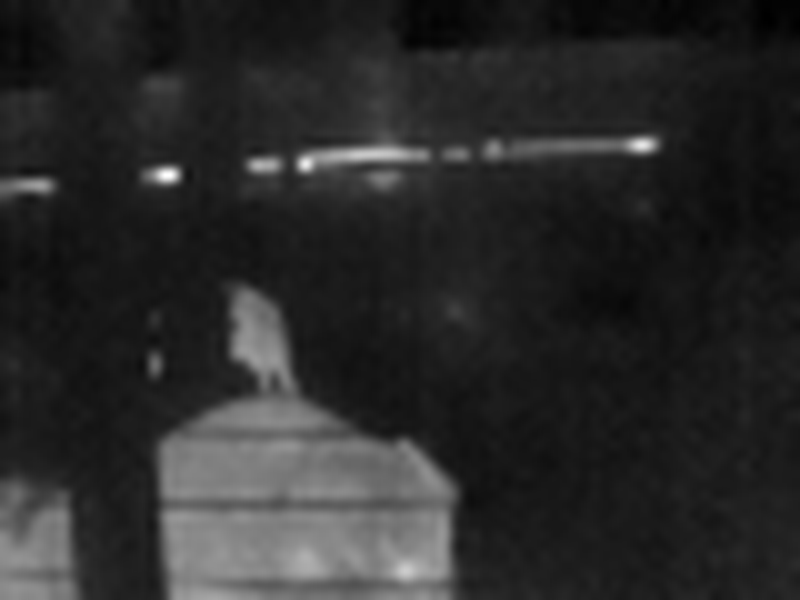elephant: (44, 291, 484, 600)
